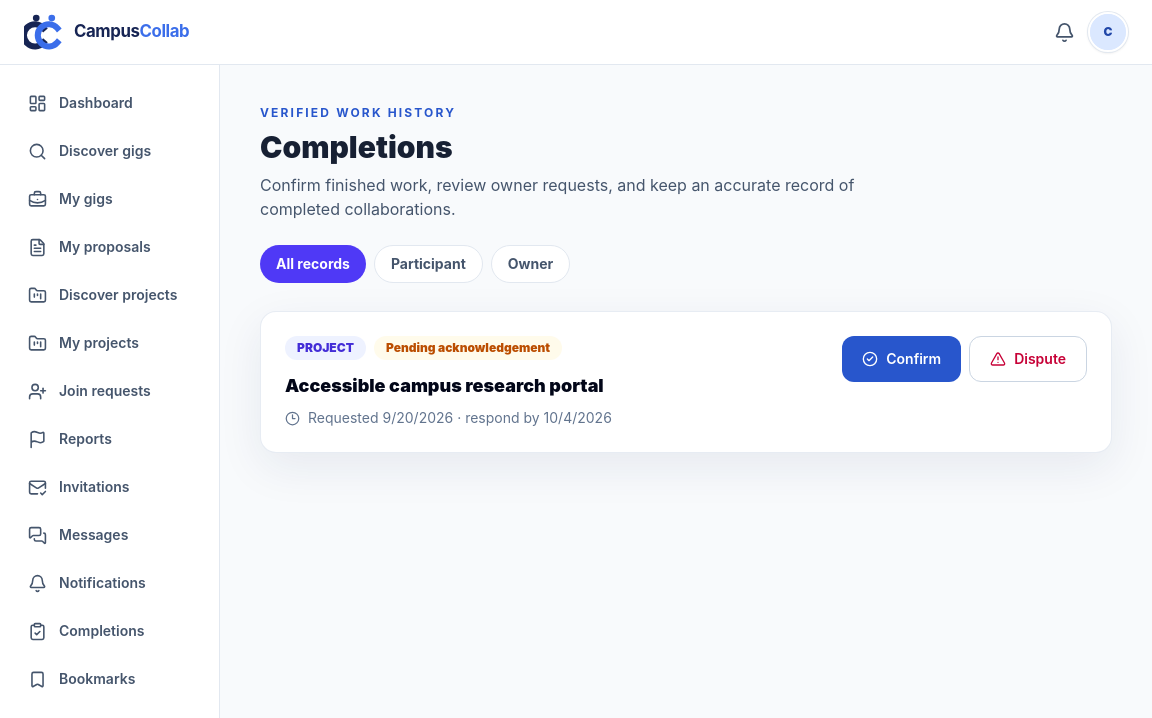
Test: completion workflow › confirms completion only after explicit confirmation
Click the button "Confirm". click: (902, 359)
box: [842, 336, 961, 382]
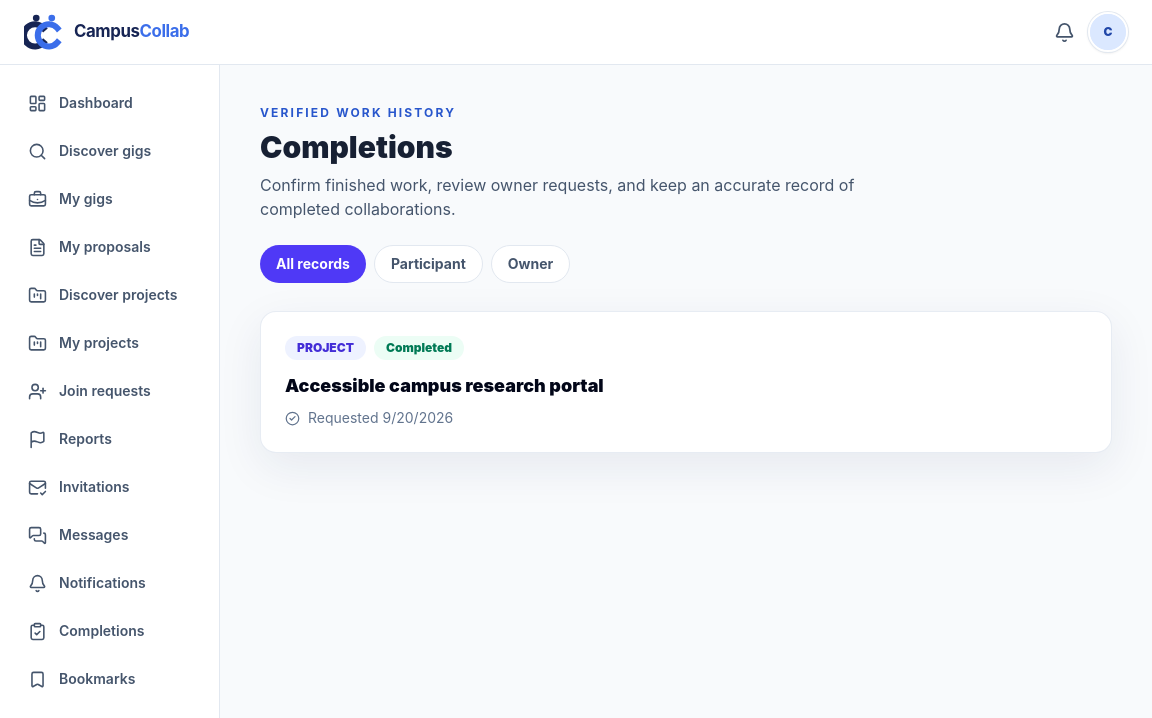
Result: the text "Completed" is shown at [374, 336, 464, 360]
